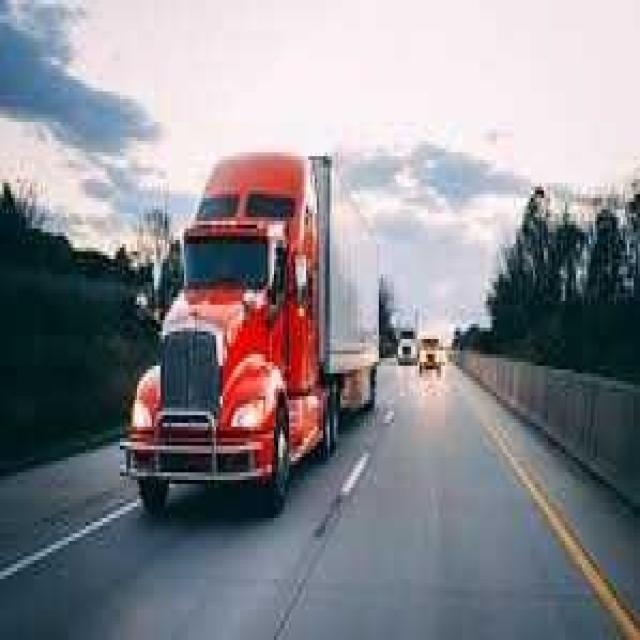Truck: (119, 132, 383, 528)
